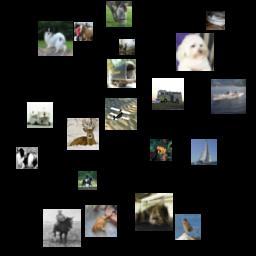airplane: (105, 98, 137, 130)
bird: (175, 214, 201, 240)
cat: (135, 193, 173, 231), (85, 205, 117, 237)
deer: (67, 118, 99, 150), (119, 39, 135, 55)
dog: (176, 33, 214, 71), (38, 21, 73, 56), (16, 147, 38, 169)
frog: (150, 139, 172, 161)
ship: (211, 79, 246, 114), (27, 102, 53, 128), (191, 139, 217, 165), (206, 11, 225, 30)
truck: (152, 78, 184, 110), (107, 59, 136, 88)
